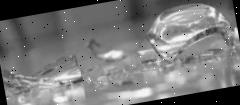glass: (142, 0, 240, 66), (1, 51, 84, 98)
